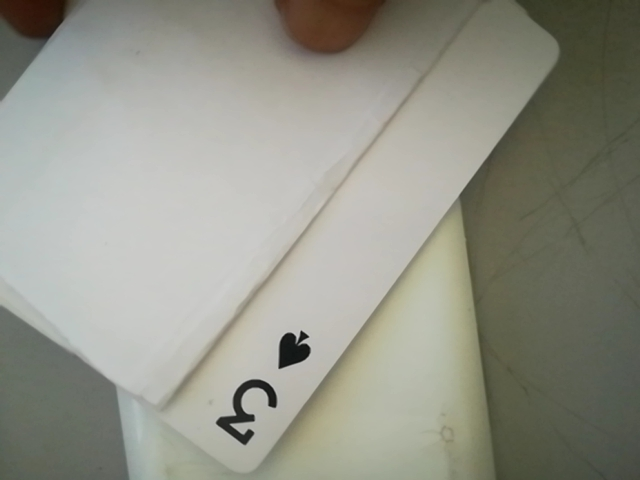ht 3: (197, 322, 323, 455)
